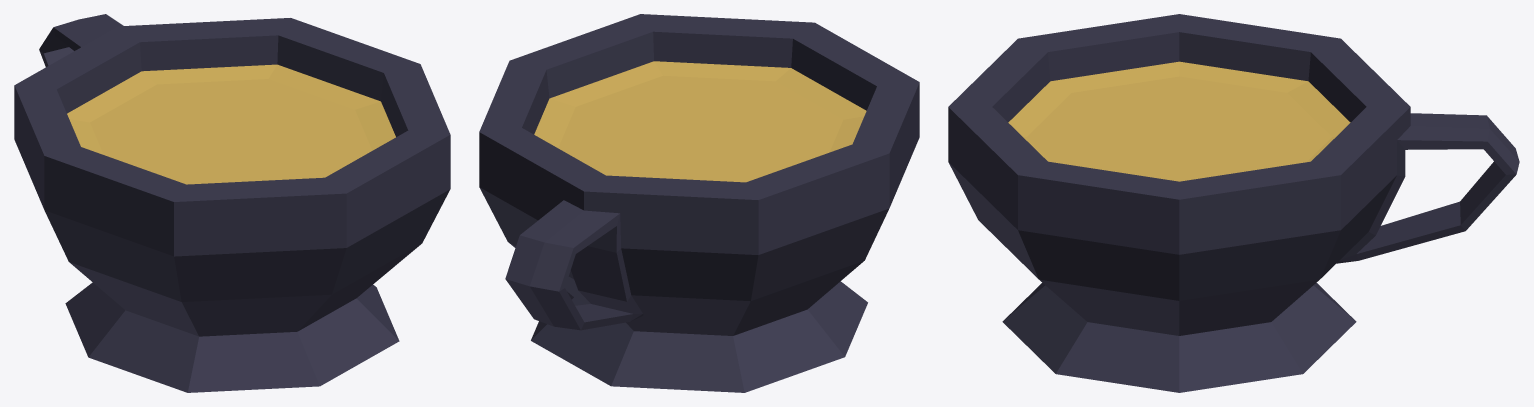
The model's file is tasseCafeSombre.glb.
3 renders of one model, left to right at view 1: azimuth 30°, elevation 25°; view 2: azimuth 150°, elevation 25°; view 3: azimuth 270°, elevation 25°, orthographic.
Visible parts, largest first — view 1: Cube; view 2: Cube; view 3: Cube.
Part boxes in pixels (x1,y1,x2,y2): Cube: (14,14,450,392); Cube: (479,14,919,392); Cube: (948,14,1519,392).
Bounding box in the file's own units: 2.72 × 1.47 × 3.54.
